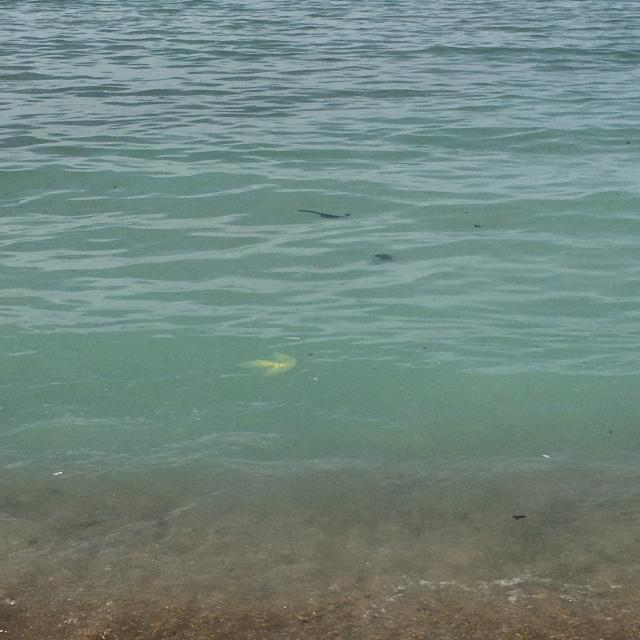Plastic bag: (239, 349, 300, 380), (297, 207, 353, 221), (364, 252, 397, 267)
